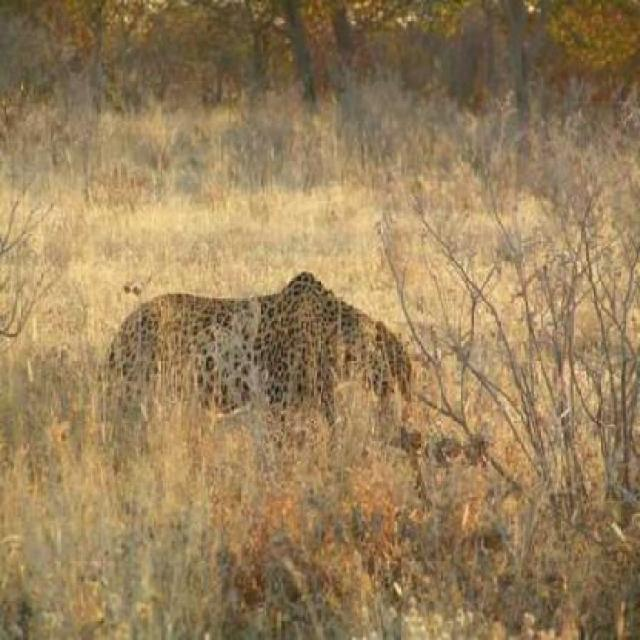Leopard: (97, 255, 506, 468)
